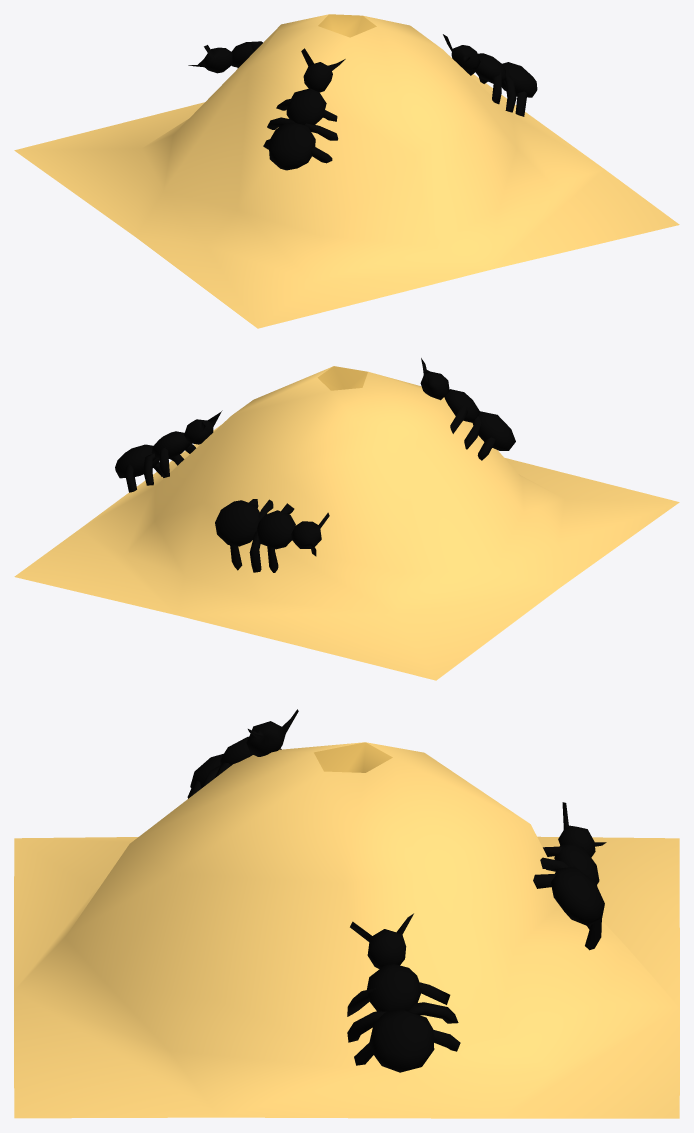
Rendered from 9d985aff-9a26-412b-859b-f20acc12acca.glb.
3 views of the same model, one above another, from view 1: azimuth 30°, elevation 25°; view 2: azimuth 150°, elevation 25°; view 3: azimuth 270°, elevation 25° (orthographic). The views are drawn at different scales.
Parts seen in each view (by area): view 1: AntHillWithAnts; view 2: AntHillWithAnts; view 3: AntHillWithAnts.
Boxes of the visible parts, left/top/right/bottom form: AntHillWithAnts: left=14, top=14, right=679, bottom=328; AntHillWithAnts: left=14, top=358, right=679, bottom=680; AntHillWithAnts: left=14, top=709, right=679, bottom=1118.
Size of the model in its own units: 0.4896 by 0.1861 by 0.4895.
Materials: 1 (1 with a texture image).
